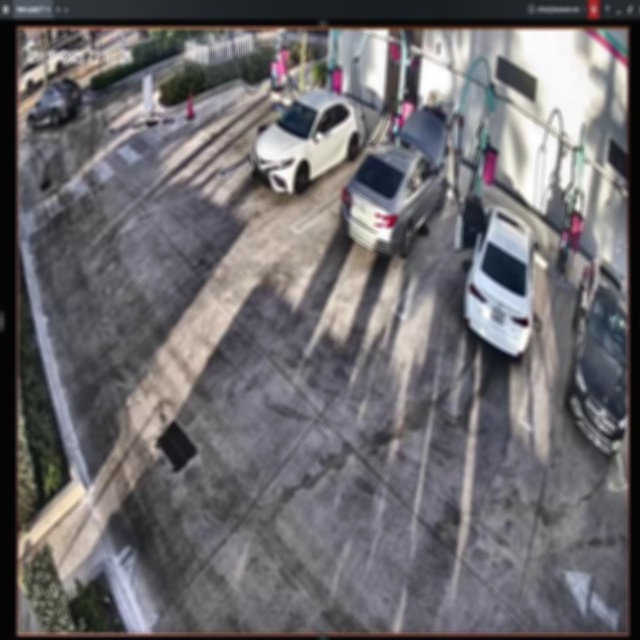Car: (329, 109, 450, 255), (453, 196, 538, 362), (252, 89, 365, 194)
